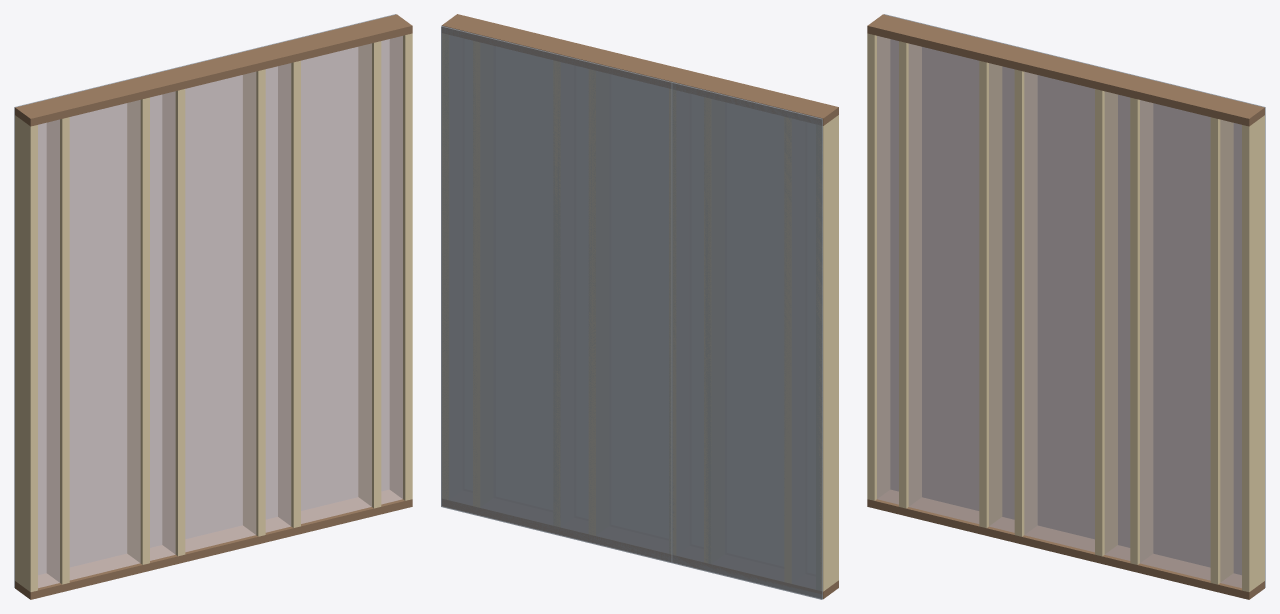
3 renders of one model, left to right at view 1: azimuth 30°, elevation 25°; view 2: azimuth 150°, elevation 25°; view 3: azimuth 330°, elevation 25°, orthographic.
Parts seen in each view (by area): view 1: EX1 GF; view 2: EX1 GF; view 3: EX1 GF.
Boxes of the visible parts, x1,y1,x2,y2 form: EX1 GF: [14, 14, 412, 599]; EX1 GF: [441, 14, 838, 599]; EX1 GF: [867, 14, 1265, 599].
Bounding box in the file's own units: 1.98 × 2.39 × 0.149.
